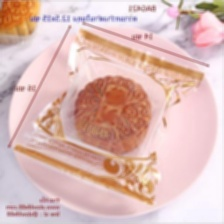snack: (9, 21, 211, 210)
